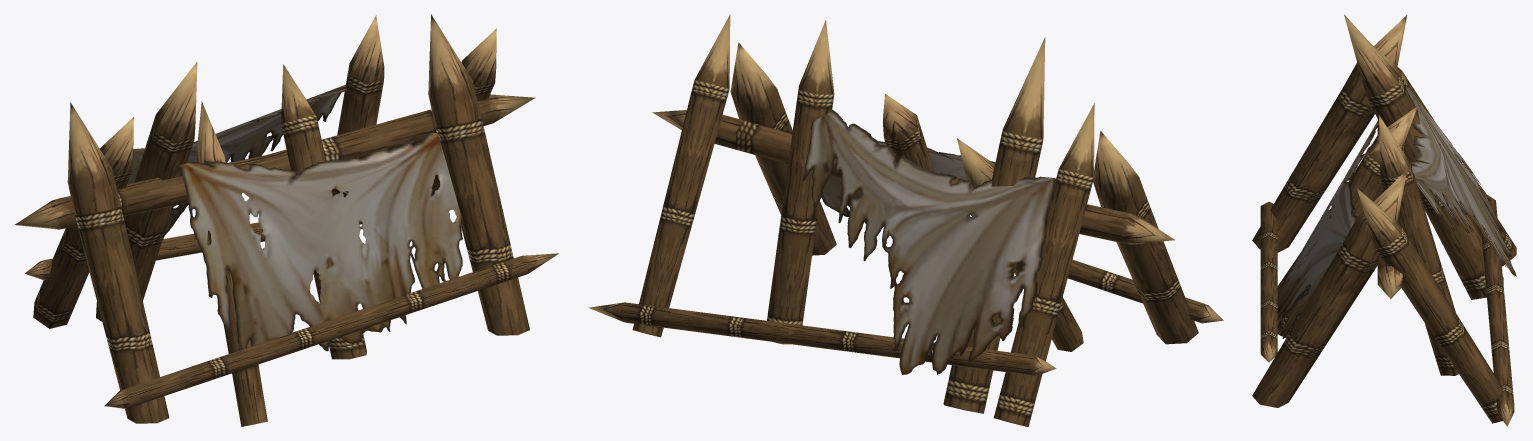
The model's file is 2_YiZhan_MuZhaLan_03.FBX.
3 renders of one model, left to right at view 1: azimuth 30°, elevation 25°; view 2: azimuth 150°, elevation 25°; view 3: azimuth 270°, elevation 25°, orthographic. The views are drawn at different scales.
Parts seen in each view (by area): view 1: 2_YiZhan_MuZhaLan_03; view 2: 2_YiZhan_MuZhaLan_03; view 3: 2_YiZhan_MuZhaLan_03.
Boxes of the visible parts, x1,y1,x2,y2 form: 2_YiZhan_MuZhaLan_03: [15, 14, 558, 426]; 2_YiZhan_MuZhaLan_03: [588, 14, 1223, 426]; 2_YiZhan_MuZhaLan_03: [1252, 14, 1516, 426].
Size of the model in its own units: 543 by 341 by 273.
